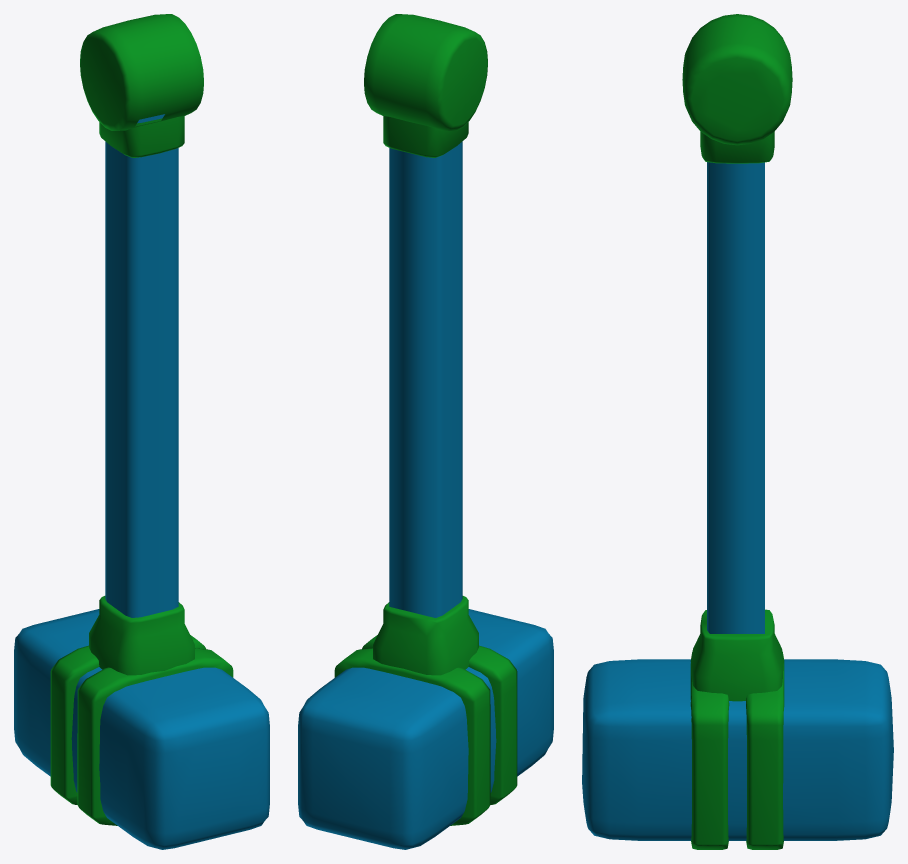
File: Obstacle_Hammer.glb
3 renders of one model, left to right at view 1: azimuth 30°, elevation 25°; view 2: azimuth 150°, elevation 25°; view 3: azimuth 270°, elevation 25°, orthographic. The views are drawn at different scales.
Parts seen in each view (by area): view 1: Obstacle_Hammer; view 2: Obstacle_Hammer; view 3: Obstacle_Hammer.
Part boxes in pixels (x1,y1,x2,y2): Obstacle_Hammer: [14, 14, 269, 849]; Obstacle_Hammer: [298, 14, 553, 849]; Obstacle_Hammer: [582, 14, 893, 849].
Size of the model in its own units: 0.999 by 5.25 by 1.86.
